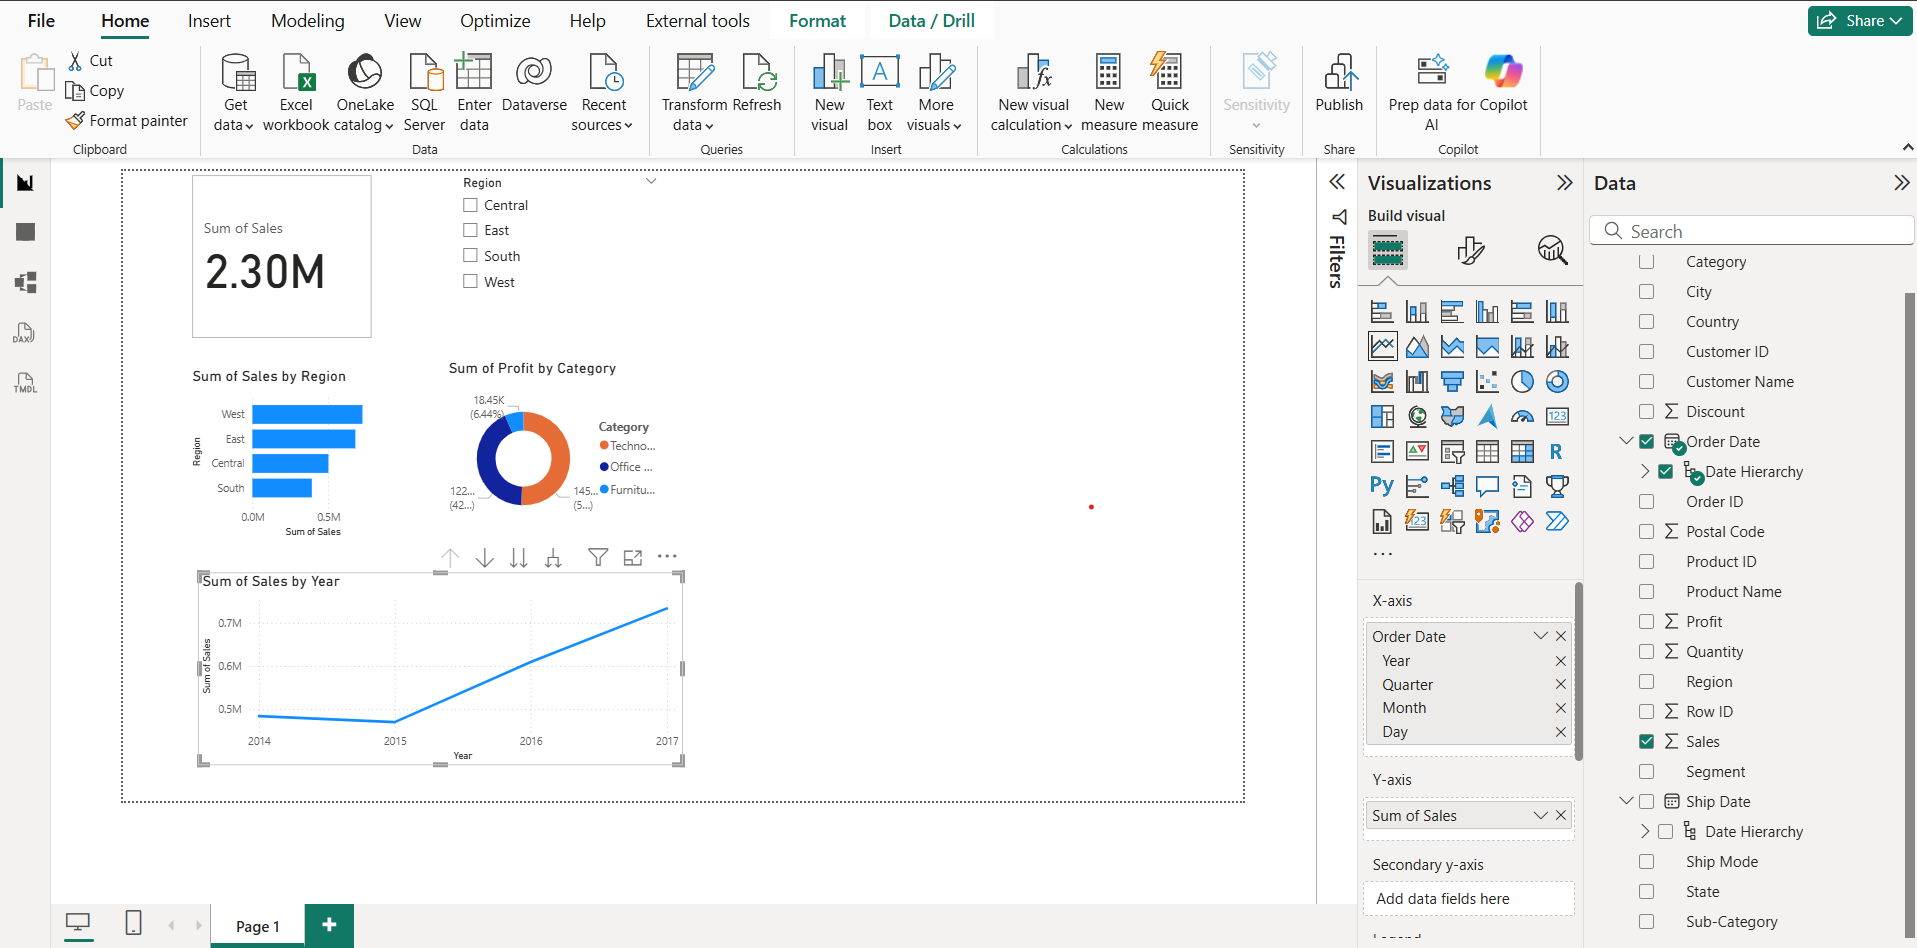

What the dashboard file says about the page in this screenshot:
{"tool":"powerbi","page":{"name":"Page 1","canvas":[1280,720],"ordinal":0},"visuals":[{"type":"cardVisual","fields":{"Data":["Sum(Sample - Superstore.Sales)"]},"box":[74.6,0,215.1,196.1],"z":0},{"type":"clusteredBarChart","fields":{"Category":["Sample - Superstore.Region"],"Y":["Sum(Sample - Superstore.Sales)"]},"box":[74.6,223.9,231.5,199.9],"z":1000},{"type":"lineChart","fields":{"Category":["Sample - Superstore.Order Date.Variation.Date Hierarchy.Year","Sample - Superstore.Order Date.Variation.Date Hierarchy.Quarter","Sample - Superstore.Order Date.Variation.Date Hierarchy.Month","Sample - Superstore.Order Date.Variation.Date Hierarchy.Day"],"Y":["Sum(Sample - Superstore.Sales)"]},"box":[86,459.2,554.1,221.4],"z":2000},{"type":"donutChart","fields":{"Category":["Sample - Superstore.Category"],"Y":["Sum(Sample - Superstore.Profit)"]},"box":[366.9,213.8,255.5,210],"z":3000},{"type":"slicer","fields":{"Values":["Sample - Superstore.Region"]},"box":[375.7,0,246.7,177.1],"z":4000}]}

Visuals, with their boxes on the page's 1280x720 design canvas (x1, y1, x2, y2). These are canvas units, not pixel positions in the 1917x948 screenshot, which may show the page scaled, cropped or inside an application window:
cardVisual - Sum(Sample - Superstore.Sales): (x1=75, y1=0, x2=290, y2=196)
clusteredBarChart - Sample - Superstore.Region x Sum(Sample - Superstore.Sales): (x1=75, y1=224, x2=306, y2=424)
lineChart - Sample - Superstore.Order Date.Variation.Date Hierarchy.Year x Sample - Superstore.Order Date.Variation.Date Hierarchy.Quarter: (x1=86, y1=459, x2=640, y2=681)
donutChart - Sample - Superstore.Category x Sum(Sample - Superstore.Profit): (x1=367, y1=214, x2=622, y2=424)
slicer - Sample - Superstore.Region: (x1=376, y1=0, x2=622, y2=177)
